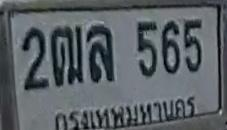2: (21, 27, 47, 89)
5: (136, 21, 157, 77), (183, 19, 202, 73)
6: (161, 20, 180, 74)
A18: (50, 24, 83, 86)
A36: (86, 24, 114, 82)
BKK: (52, 92, 200, 130)
